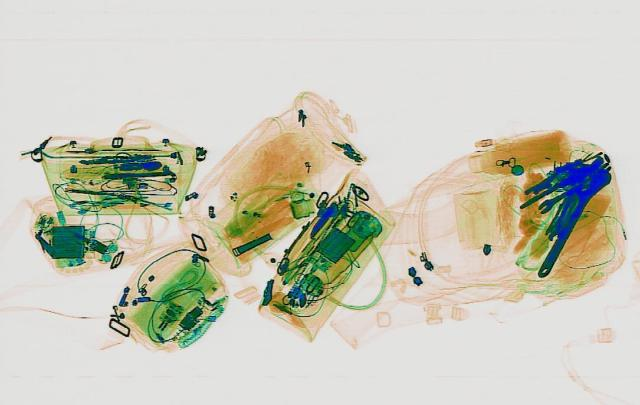Wrench: (521, 165, 615, 280), (531, 180, 589, 213)
